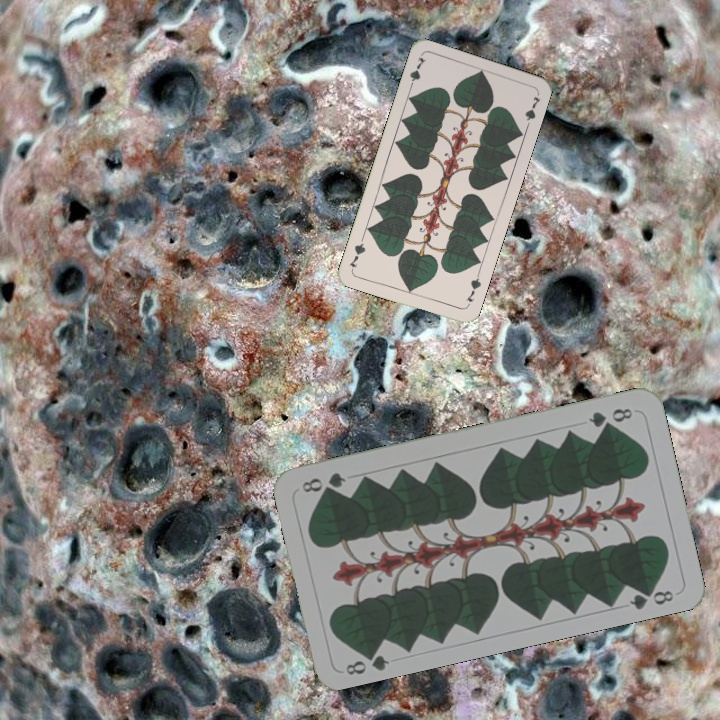G7: (405, 53, 429, 92), (462, 270, 484, 305)
G8: (341, 645, 392, 678), (584, 404, 636, 430)
